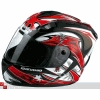helmet: (6, 10, 91, 83)
